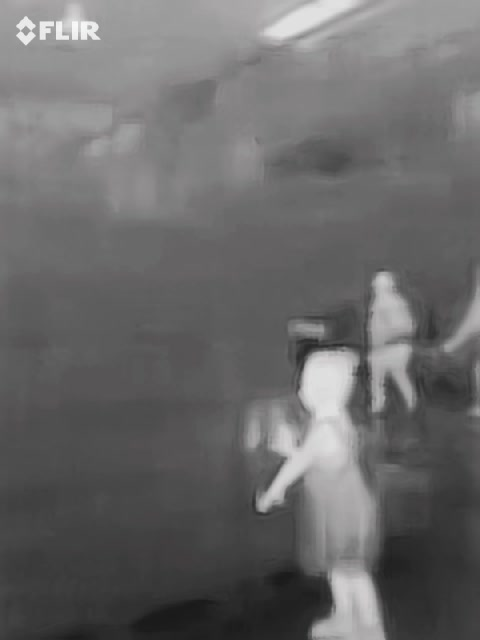head: (299, 346, 358, 412)
